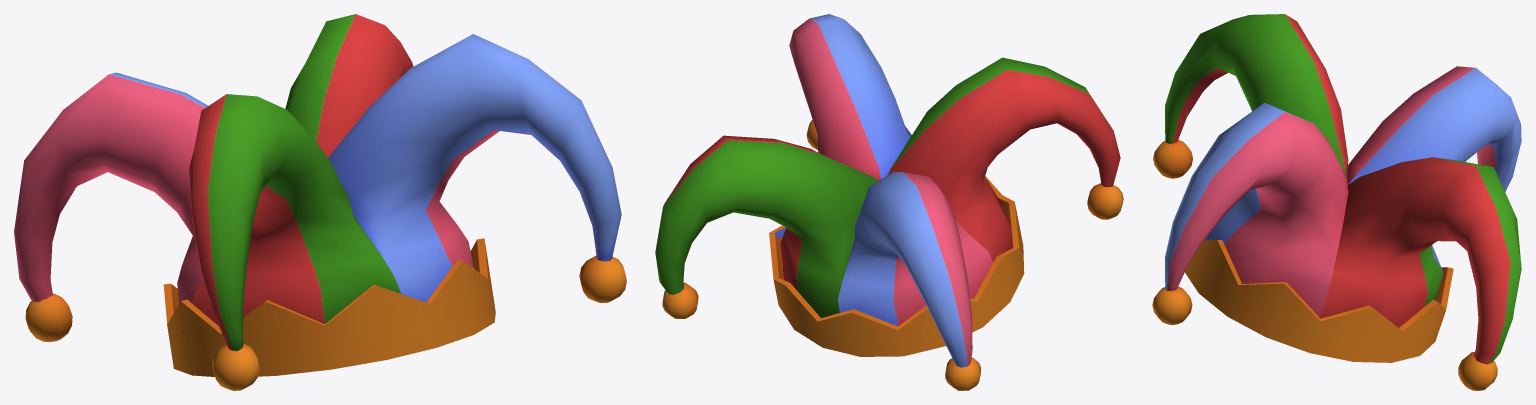
The model's file is importerSkin05Hat.fbx.
The picture shows the model from 3 angles, left to right: view 1: azimuth 30°, elevation 25°; view 2: azimuth 150°, elevation 25°; view 3: azimuth 270°, elevation 25°; orthographic projection. The views are drawn at different scales.
Parts seen in each view (by area): view 1: importerSkin05_hat_geo; view 2: importerSkin05_hat_geo; view 3: importerSkin05_hat_geo.
Part boxes in pixels (x1,y1,x2,y2): importerSkin05_hat_geo: (14,14,626,390); importerSkin05_hat_geo: (655,14,1123,390); importerSkin05_hat_geo: (1152,14,1521,390).
Bounding box in the file's own units: 3.17 × 2.46 × 3.04.
Materials: 1 (1 with a texture image).
